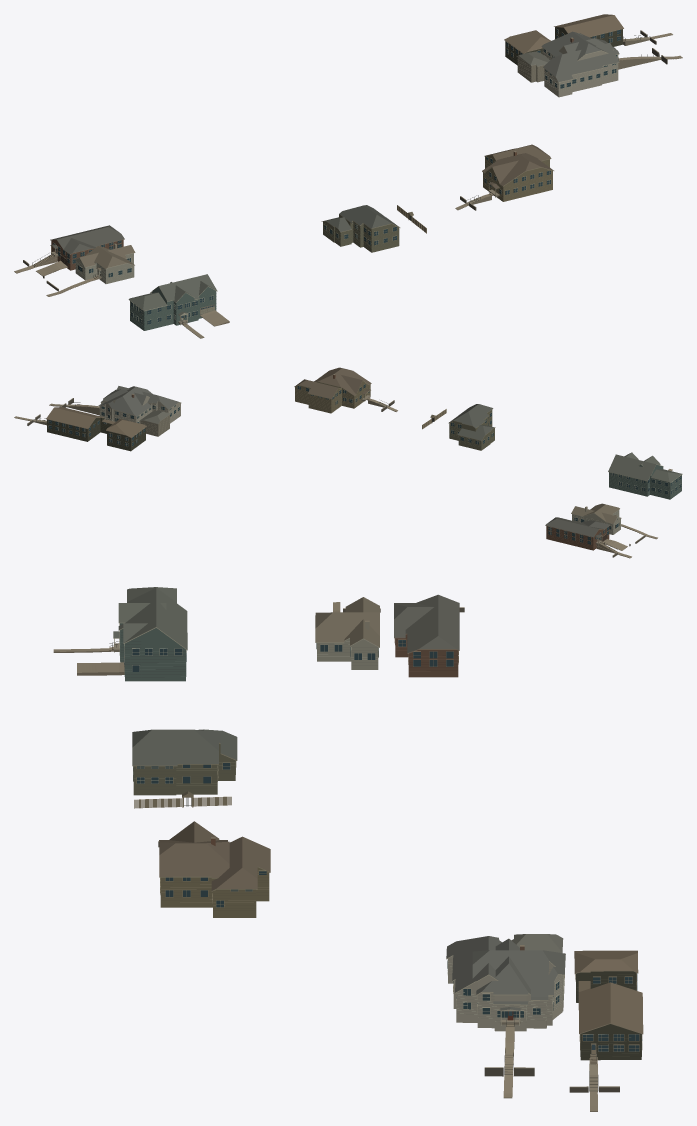
Rendered from site.glb.
The picture shows the model from 3 angles, top to bottom: view 1: azimuth 30°, elevation 25°; view 2: azimuth 150°, elevation 25°; view 3: azimuth 270°, elevation 25°; orthographic projection. The views are drawn at different scales.
Visible parts, largest first — view 1: roof-7873e057, roof-d44341e6, roof-8d87ddf2, roof-24910633, southern-boundary-approaches, roof-496beafd, harris-2061, roof-6594bfe8, university-2028-rear; view 2: roof-496beafd, roof-8d87ddf2, roof-d44341e6, roof-7873e057, roof-24910633, roof-6594bfe8, southern-boundary-approaches, harris-2061, university-2028-rear; view 3: roof-7873e057, roof-8d87ddf2, roof-24910633, roof-496beafd, roof-d44341e6, roof-6594bfe8, harris-2061, southern-boundary-approaches, university-2028-rear.
Boxes of the visible parts, box(x1,y1,x2,y2) form: roof-7873e057: box(541, 31, 619, 97); roof-d44341e6: box(128, 274, 217, 330); roof-8d87ddf2: box(482, 144, 553, 201); roof-24910633: box(321, 205, 426, 252); southern-boundary-approaches: box(14, 30, 682, 338); roof-496beafd: box(504, 14, 623, 65); harris-2061: box(74, 243, 135, 283); roof-6594bfe8: box(50, 225, 124, 270); university-2028-rear: box(516, 51, 549, 82); roof-496beafd: box(46, 407, 146, 451); roof-8d87ddf2: box(294, 367, 371, 413); roof-d44341e6: box(608, 452, 682, 499); roof-7873e057: box(98, 386, 181, 423); roof-24910633: box(422, 404, 495, 450); roof-6594bfe8: box(545, 517, 609, 550); southern-boundary-approaches: box(14, 398, 672, 558); harris-2061: box(571, 503, 621, 534); university-2028-rear: box(139, 410, 170, 436); roof-7873e057: box(446, 936, 565, 1031); roof-8d87ddf2: box(159, 821, 270, 917); roof-24910633: box(132, 729, 237, 808); roof-496beafd: box(574, 950, 643, 1060); roof-d44341e6: box(113, 587, 187, 681); roof-6594bfe8: box(394, 594, 459, 677); harris-2061: box(315, 597, 379, 669); southern-boundary-approaches: box(53, 602, 619, 1111); university-2028-rear: box(511, 934, 563, 952).
Bounding box in the file's own units: 241 × 24.77 × 107.
